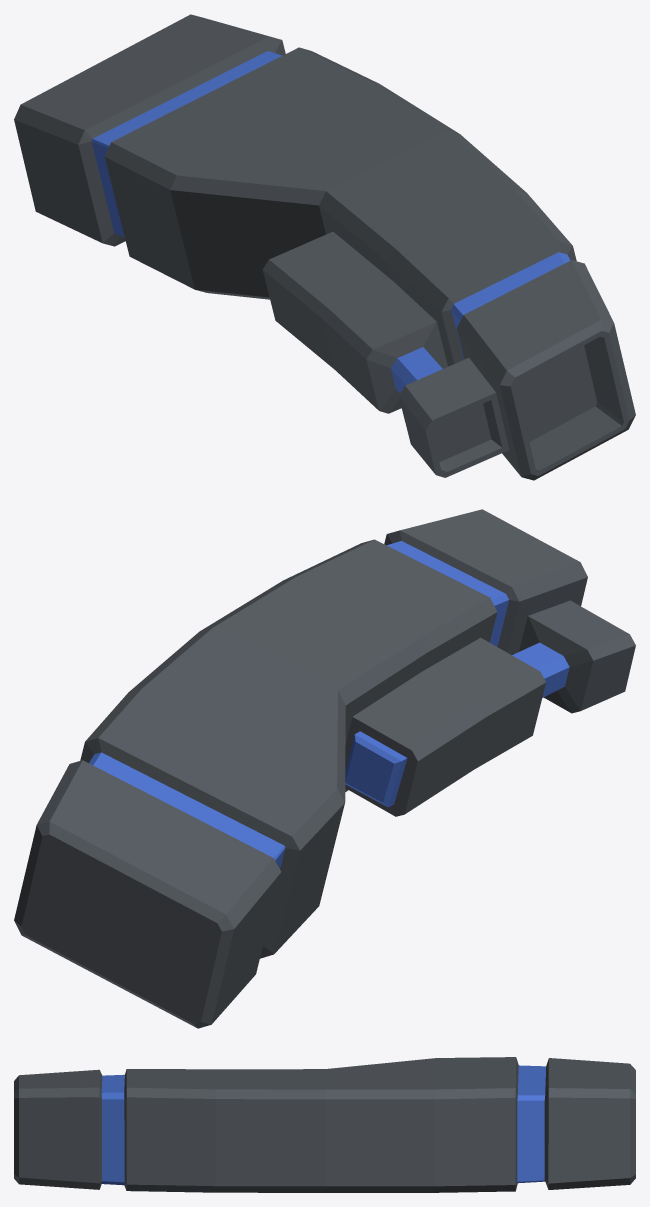
File: Fighter_10_Light_Left_Blue.fbx
3 renders of one model, top to bottom at view 1: azimuth 30°, elevation 25°; view 2: azimuth 150°, elevation 25°; view 3: azimuth 270°, elevation 25°, orthographic. The views are drawn at different scales.
Parts seen in each view (by area): view 1: Fighter_10_Light_Left_Blue; view 2: Fighter_10_Light_Left_Blue; view 3: Fighter_10_Light_Left_Blue.
Boxes of the visible parts, box(x1,y1,x2,y2) form: Fighter_10_Light_Left_Blue: box(14, 14, 635, 480); Fighter_10_Light_Left_Blue: box(14, 509, 635, 1028); Fighter_10_Light_Left_Blue: box(14, 1057, 635, 1192).
Size of the model in its own units: 337 by 229 by 929.
Materials: 2 (2 with a texture image).
